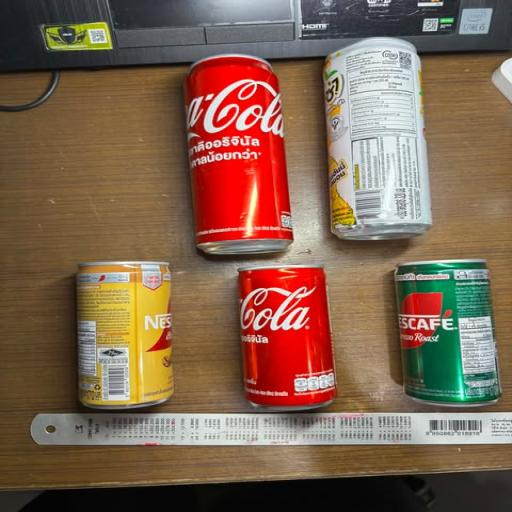canned: (307, 29, 453, 245), (166, 42, 308, 261), (357, 247, 506, 414), (208, 258, 354, 417), (49, 251, 187, 413)
